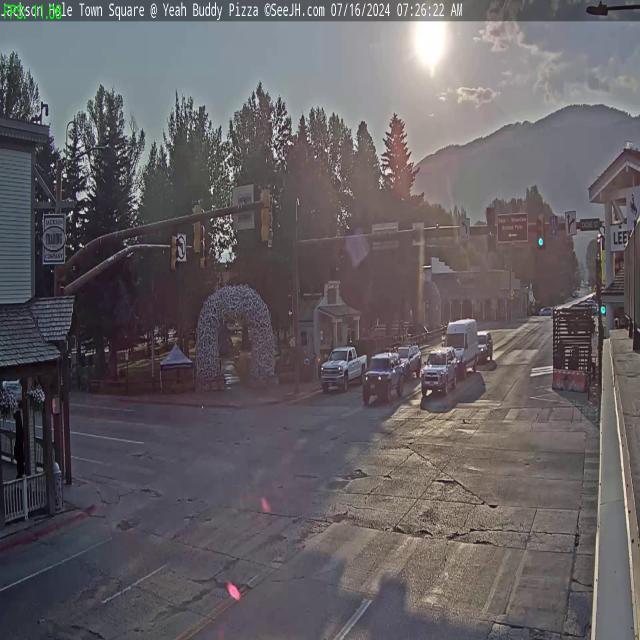pickup: (320, 344, 366, 394)
suv: (421, 346, 464, 396), (368, 353, 404, 402), (401, 341, 422, 379), (476, 329, 495, 363)
traffic light: (260, 184, 273, 243), (190, 200, 203, 256), (486, 208, 496, 252), (171, 231, 180, 274), (537, 214, 545, 248)
van: (448, 316, 477, 379)
